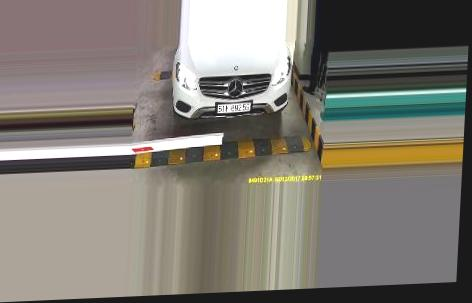License_Plate: (216, 100, 254, 115)
